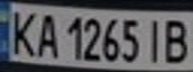1: (60, 12, 84, 61)
2: (78, 14, 103, 62)
5: (118, 15, 145, 63)
6: (100, 15, 124, 63)
A: (33, 9, 60, 58)
B: (160, 16, 193, 64)
I: (142, 16, 169, 64)
K: (3, 7, 39, 57)
